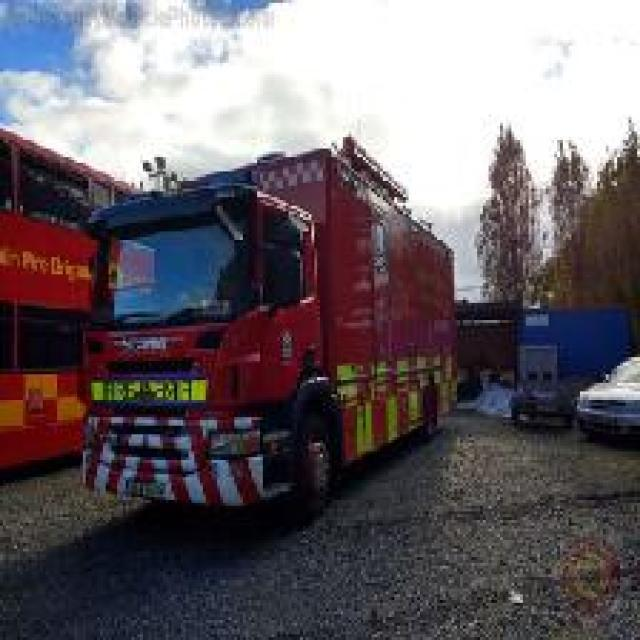emergency: (76, 138, 458, 518)
